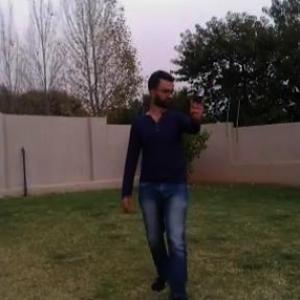takeoff-hand: (184, 83, 209, 128)
